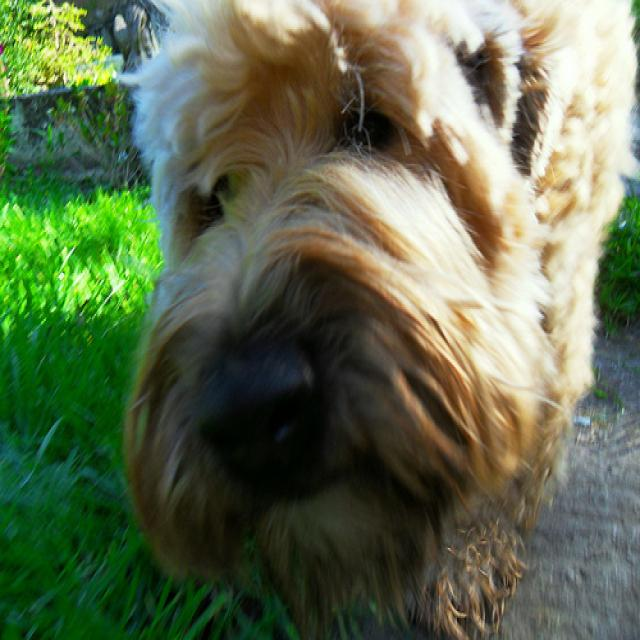dog-wheaten_terrier: (93, 2, 637, 637)
